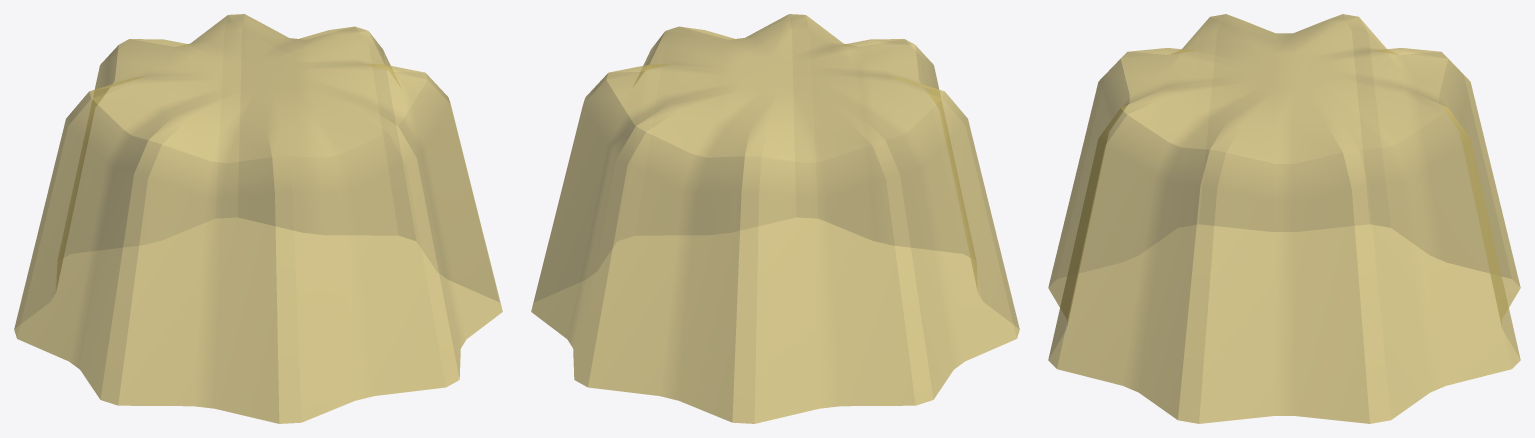
File: pudding_v2.fbx
3 views of the same model, side by side, from view 1: azimuth 30°, elevation 25°; view 2: azimuth 150°, elevation 25°; view 3: azimuth 270°, elevation 25° (orthographic). The views are drawn at different scales.
Visible parts, largest first — view 1: pCylinder3; view 2: pCylinder3; view 3: pCylinder3.
Boxes of the visible parts, box(x1,y1,x2,y2) form: pCylinder3: box(14, 14, 502, 423); pCylinder3: box(531, 14, 1019, 423); pCylinder3: box(1048, 14, 1520, 423).
Bounding box in the file's own units: 2.07 × 1.22 × 2.07.
